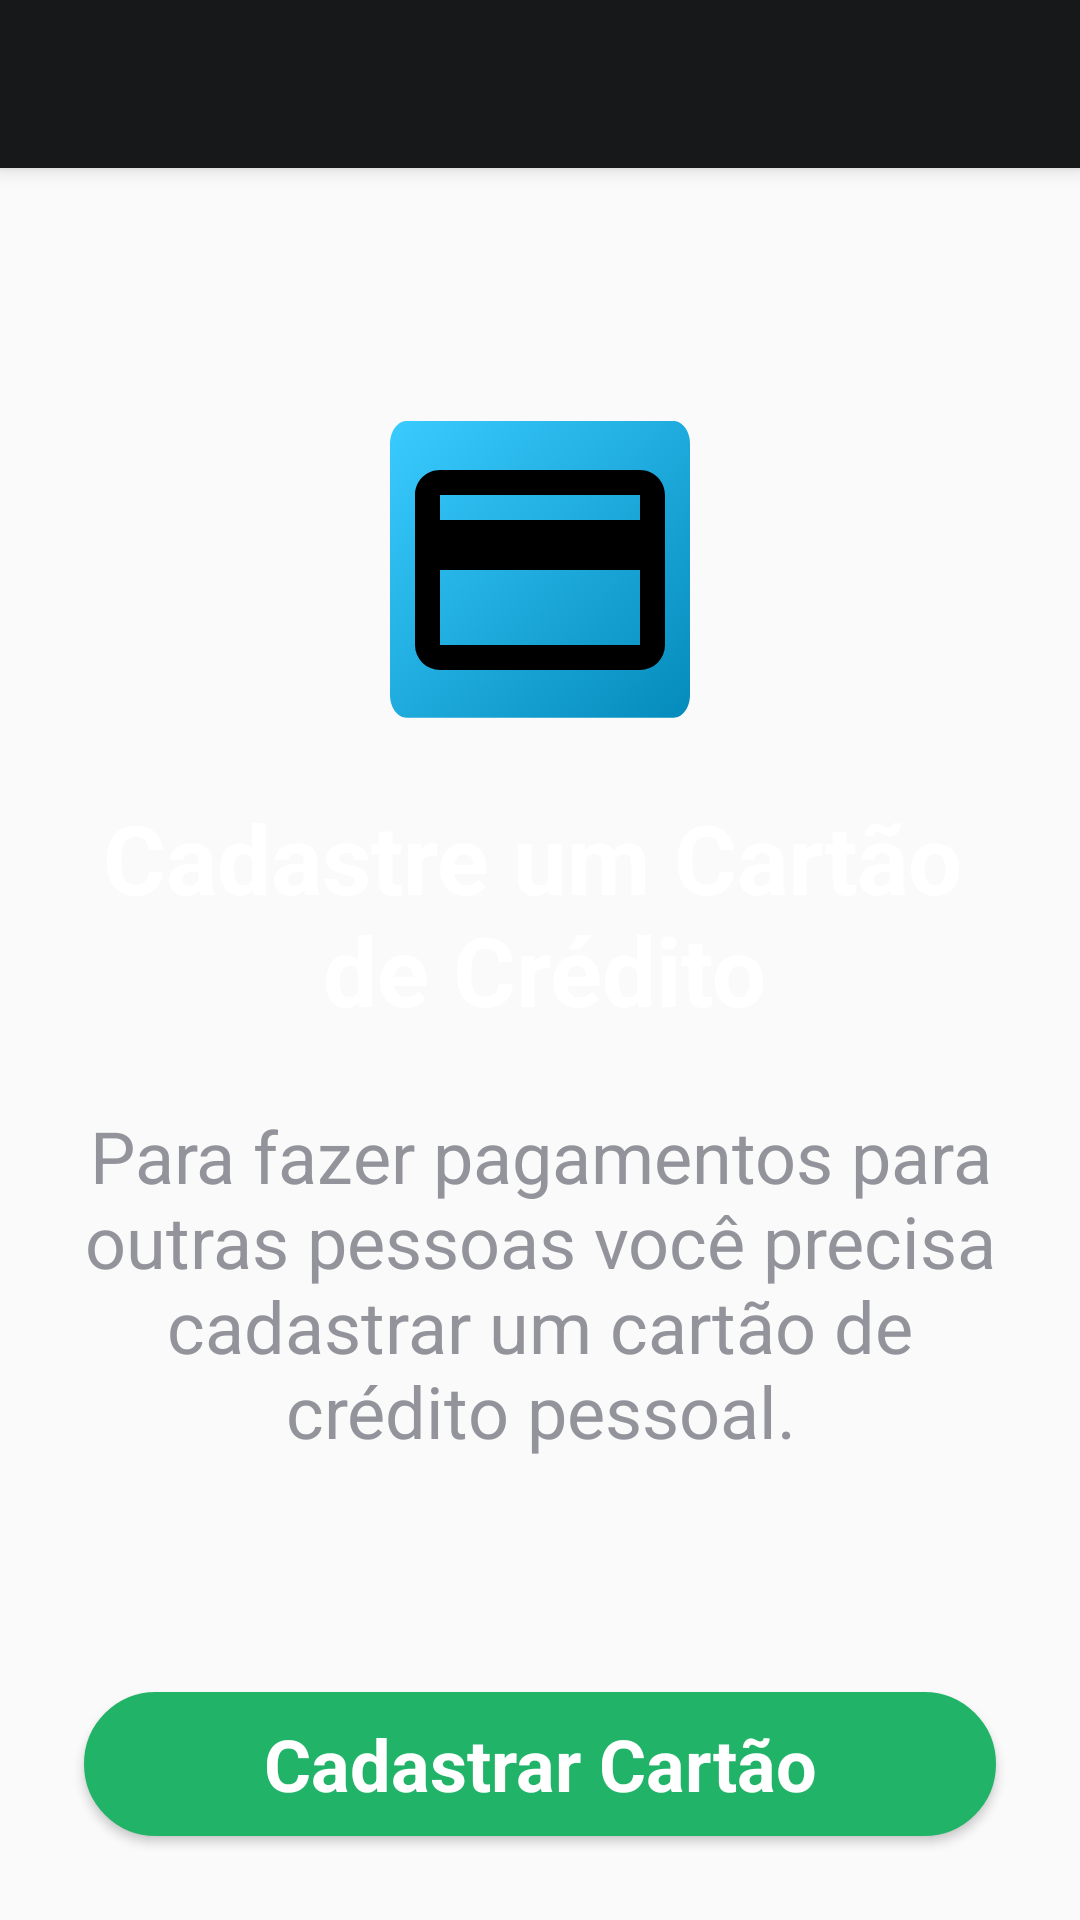

Named icons in this screenshot (1080w x 1920h) and their bounding boxes, (x1,y1,x2,y2):
credit card: (390,421,690,718)
